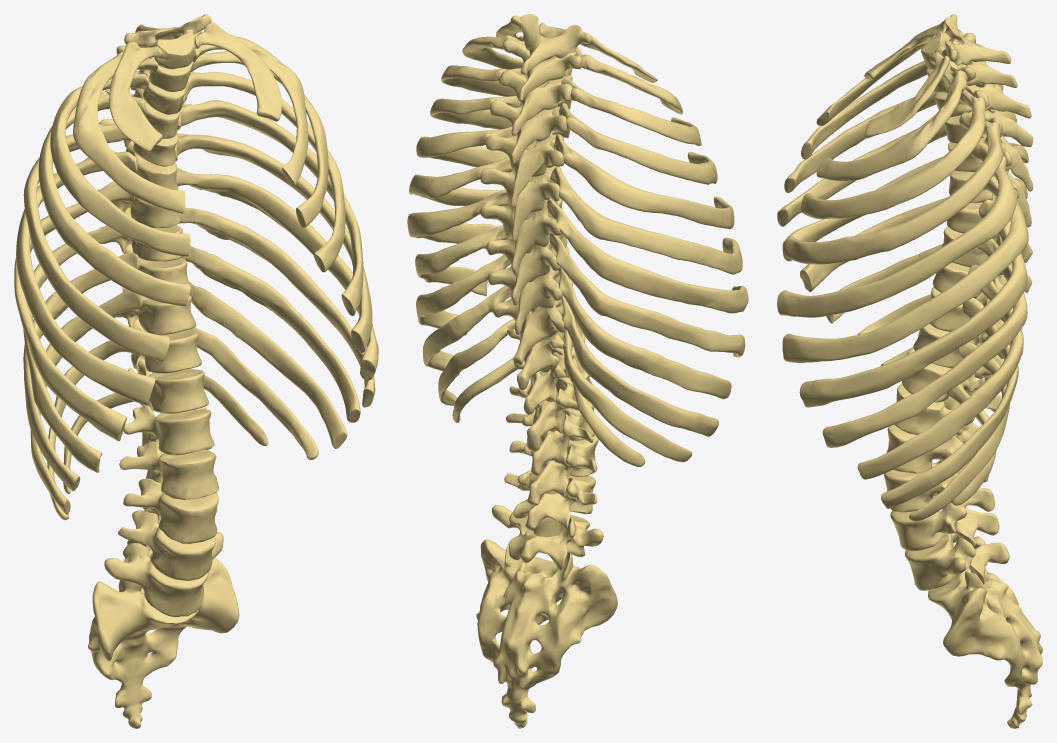
Rendered from spine-trunk.glb.
3 views of the same model, side by side, from view 1: azimuth 30°, elevation 25°; view 2: azimuth 150°, elevation 25°; view 3: azimuth 270°, elevation 25° (orthographic). The views are drawn at different scales.
Parts seen in each view (by area): view 1: spine-trunk:sacrum:isa:FJ3393, spine-trunk:sixth-rib:isa:FJ3344, spine-trunk:fourth-rib:isa:FJ3340, spine-trunk:fifth-rib:isa:FJ3342, spine-trunk:third-rib:isa:FJ3338, spine-trunk:second-rib:isa:FJ3336, spine-trunk:ninth-rib:isa:FJ3236, spine-trunk:seventh-rib:isa:FJ3234, spine-trunk:seventh-rib:isa:FJ3346, spine-trunk:eighth-rib:isa:FJ3235, spine-trunk:tenth-rib:isa:FJ3225, spine-trunk:fifth-rib:isa:FJ3232 (+30 smaller); view 2: spine-trunk:sacrum:isa:FJ3393, spine-trunk:seventh-rib:isa:FJ3346, spine-trunk:sixth-rib:isa:FJ3344, spine-trunk:eighth-rib:isa:FJ3347, spine-trunk:ninth-rib:isa:FJ3348, spine-trunk:fifth-rib:isa:FJ3342, spine-trunk:tenth-rib:isa:FJ3330, spine-trunk:fifth-lumbar-vertebra:isa:FJ3168, spine-trunk:fourth-rib:isa:FJ3340, spine-trunk:eleventh-rib:isa:FJ3331, spine-trunk:fourth-lumbar-vertebra:isa:FJ3165, spine-trunk:seventh-rib:isa:FJ3234 (+29 smaller); view 3: spine-trunk:sacrum:isa:FJ3393, spine-trunk:sixth-rib:isa:FJ3233, spine-trunk:fifth-rib:isa:FJ3232, spine-trunk:seventh-rib:isa:FJ3234, spine-trunk:fourth-rib:isa:FJ3231, spine-trunk:eighth-rib:isa:FJ3235, spine-trunk:third-rib:isa:FJ3230, spine-trunk:ninth-rib:isa:FJ3236, spine-trunk:second-rib:isa:FJ3229, spine-trunk:fifth-lumbar-vertebra:isa:FJ3168, spine-trunk:tenth-rib:isa:FJ3225, spine-trunk:fourth-lumbar-vertebra:isa:FJ3165 (+27 smaller).
Part boxes in pixels (x1=…): spine-trunk:sacrum:isa:FJ3393: x1=88, y1=557, x2=239, y2=728; spine-trunk:sixth-rib:isa:FJ3344: x1=16, y1=151, x2=155, y2=405; spine-trunk:fourth-rib:isa:FJ3340: x1=38, y1=91, x2=190, y2=306; spine-trunk:fifth-rib:isa:FJ3342: x1=23, y1=123, x2=169, y2=362; spine-trunk:third-rib:isa:FJ3338: x1=50, y1=73, x2=190, y2=256; spine-trunk:second-rib:isa:FJ3336: x1=73, y1=51, x2=185, y2=213; spine-trunk:ninth-rib:isa:FJ3236: x1=182, y1=246, x2=360, y2=422; spine-trunk:seventh-rib:isa:FJ3234: x1=176, y1=167, x2=378, y2=380; spine-trunk:seventh-rib:isa:FJ3346: x1=14, y1=181, x2=135, y2=441; spine-trunk:eighth-rib:isa:FJ3235: x1=179, y1=208, x2=375, y2=407; spine-trunk:tenth-rib:isa:FJ3225: x1=189, y1=282, x2=347, y2=448; spine-trunk:fifth-rib:isa:FJ3232: x1=177, y1=100, x2=363, y2=315; spine-trunk:sacrum:isa:FJ3393: x1=476, y1=539, x2=617, y2=728; spine-trunk:seventh-rib:isa:FJ3346: x1=547, y1=197, x2=748, y2=313; spine-trunk:sixth-rib:isa:FJ3344: x1=550, y1=166, x2=742, y2=274; spine-trunk:eighth-rib:isa:FJ3347: x1=549, y1=233, x2=745, y2=357; spine-trunk:ninth-rib:isa:FJ3348: x1=558, y1=267, x2=731, y2=399; spine-trunk:fifth-rib:isa:FJ3342: x1=553, y1=134, x2=734, y2=229; spine-trunk:tenth-rib:isa:FJ3330: x1=561, y1=295, x2=718, y2=436; spine-trunk:fifth-lumbar-vertebra:isa:FJ3168: x1=491, y1=505, x2=603, y2=570; spine-trunk:fourth-rib:isa:FJ3340: x1=559, y1=103, x2=717, y2=184; spine-trunk:eleventh-rib:isa:FJ3331: x1=563, y1=330, x2=692, y2=462; spine-trunk:fourth-lumbar-vertebra:isa:FJ3165: x1=504, y1=469, x2=597, y2=530; spine-trunk:seventh-rib:isa:FJ3234: x1=407, y1=190, x2=508, y2=254; spine-trunk:sacrum:isa:FJ3393: x1=928, y1=536, x2=1042, y2=728; spine-trunk:sixth-rib:isa:FJ3233: x1=782, y1=176, x2=1028, y2=362; spine-trunk:fifth-rib:isa:FJ3232: x1=777, y1=141, x2=1016, y2=317; spine-trunk:seventh-rib:isa:FJ3234: x1=799, y1=200, x2=1027, y2=407; spine-trunk:fourth-rib:isa:FJ3231: x1=784, y1=112, x2=1003, y2=264; spine-trunk:eighth-rib:isa:FJ3235: x1=822, y1=238, x2=1027, y2=447; spine-trunk:third-rib:isa:FJ3230: x1=801, y1=89, x2=985, y2=219; spine-trunk:ninth-rib:isa:FJ3236: x1=857, y1=265, x2=1023, y2=479; spine-trunk:second-rib:isa:FJ3229: x1=816, y1=68, x2=967, y2=181; spine-trunk:fifth-lumbar-vertebra:isa:FJ3168: x1=905, y1=533, x2=1009, y2=590; spine-trunk:tenth-rib:isa:FJ3225: x1=881, y1=297, x2=1018, y2=508; spine-trunk:fourth-lumbar-vertebra:isa:FJ3165: x1=890, y1=496, x2=999, y2=551.
Size of the model in its own units: 0.2729 by 0.5941 by 0.2049.
